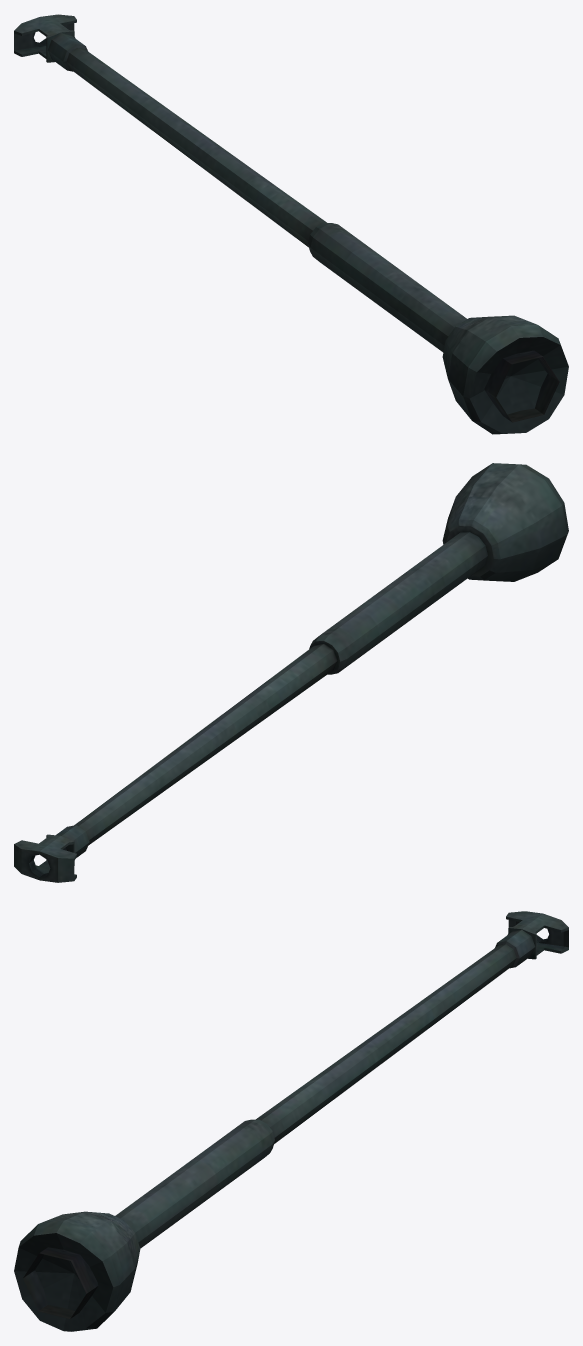
The model's file is barrel2.obj.
The picture shows the model from 3 angles, top to bottom: view 1: azimuth 30°, elevation 25°; view 2: azimuth 150°, elevation 25°; view 3: azimuth 330°, elevation 25°; orthographic projection.
Parts seen in each view (by area): view 1: Mesh; view 2: Mesh; view 3: Mesh.
Part boxes in pixels (x1,y1,x2,y2): Mesh: [14, 14, 568, 434]; Mesh: [14, 463, 568, 882]; Mesh: [14, 911, 568, 1331].
Bounding box in the file's own units: 0.7596 × 0.7597 × 6.17.
Materials: 1 (1 with a texture image).
